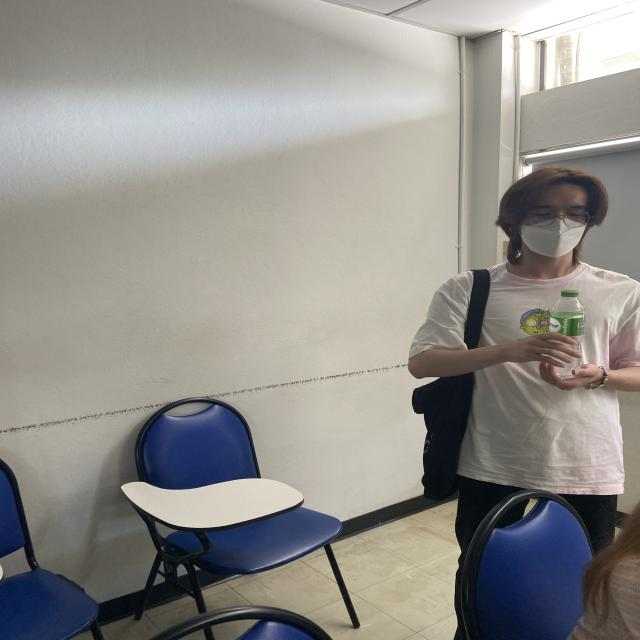bottle: (548, 290, 616, 378)
